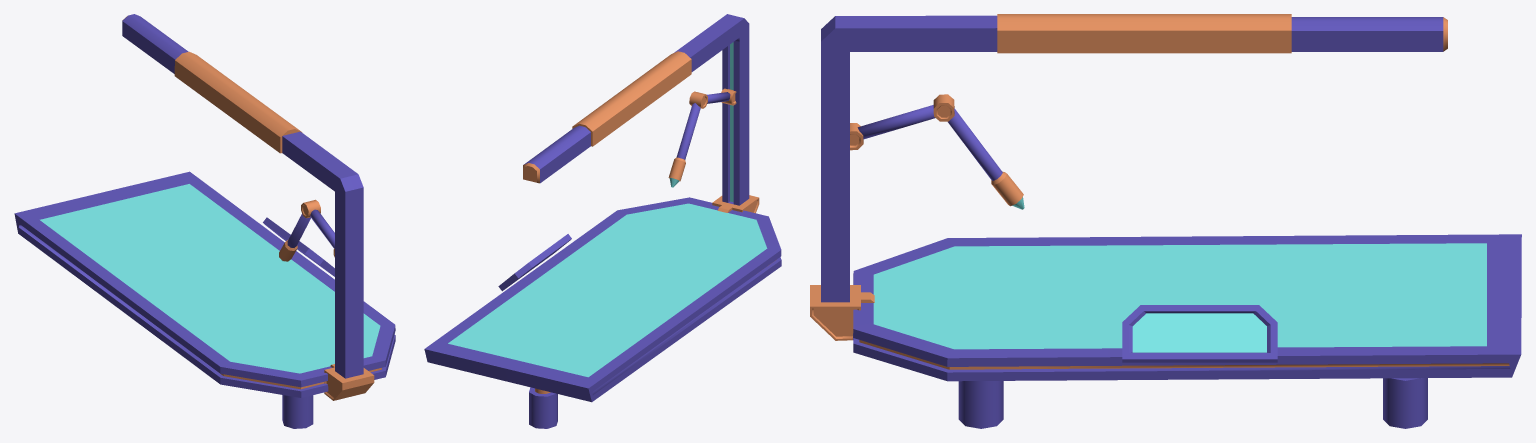
Rendered from UpgradeTable.fbx.
3 views of the same model, side by side, from view 1: azimuth 30°, elevation 25°; view 2: azimuth 150°, elevation 25°; view 3: azimuth 270°, elevation 25° (orthographic). The views are drawn at different scales.
Visible parts, largest first — view 1: MidCar.001; view 2: MidCar.001; view 3: MidCar.001.
Part boxes in pixels (left/top/right/bottom): MidCar.001: left=14, top=14, right=395, bottom=428; MidCar.001: left=424, top=14, right=781, bottom=428; MidCar.001: left=810, top=14, right=1521, bottom=428.
Size of the model in its own units: 333 by 500 by 801.
